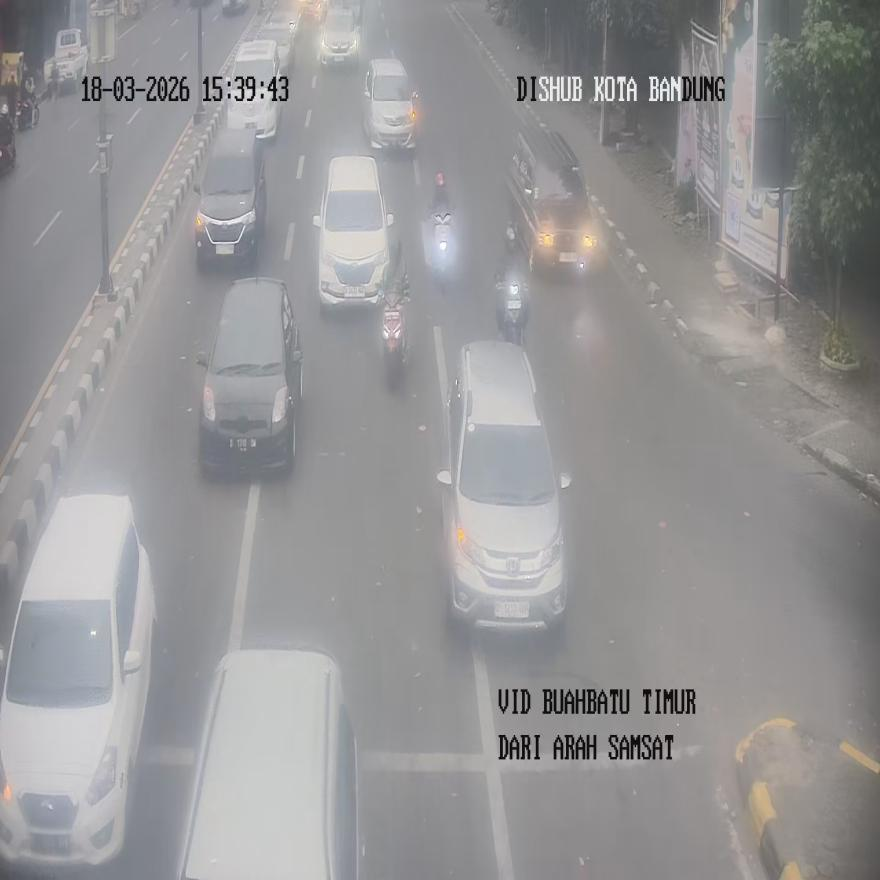Motor: (0, 491, 156, 869), (177, 646, 362, 878), (436, 341, 572, 629), (197, 275, 303, 475), (506, 121, 601, 277), (313, 155, 394, 309), (194, 123, 267, 266), (225, 41, 281, 140), (363, 58, 418, 150), (318, 1, 362, 70)
Truk: (0, 114, 17, 174), (16, 92, 38, 130)
